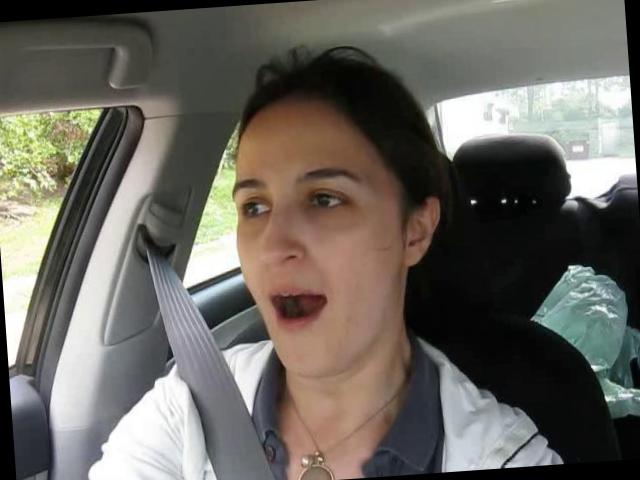eye_open: (299, 183, 354, 218), (236, 192, 274, 222)
face: (225, 148, 394, 387)
mouth_open: (262, 272, 338, 336)
